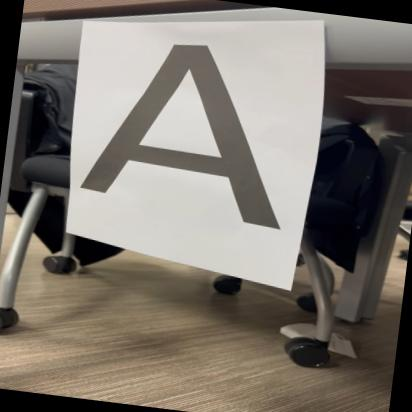seat: (67, 30, 306, 231)
